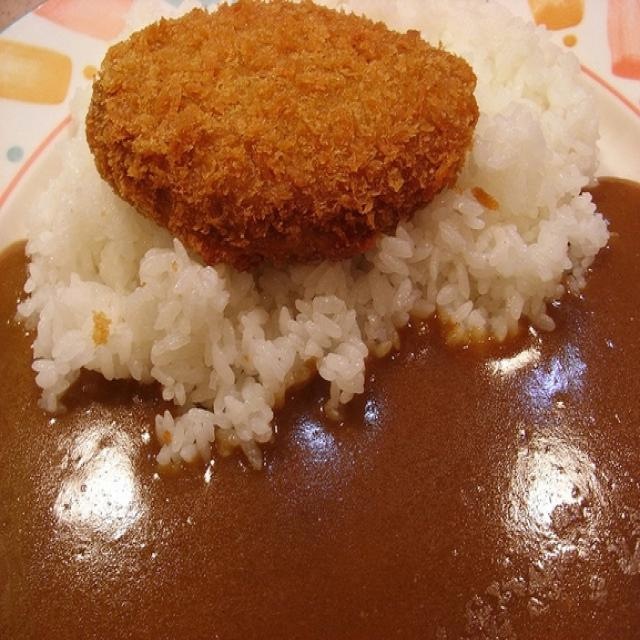炸货点心: (88, 13, 499, 263)
